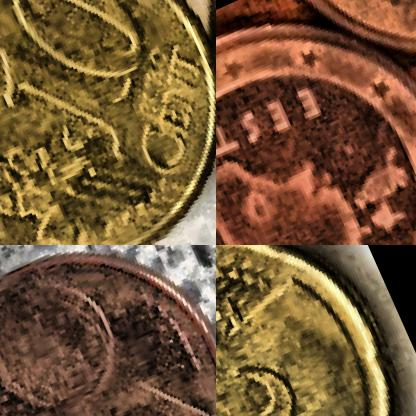coin: (0, 0, 215, 244), (216, 0, 415, 244), (0, 245, 215, 415), (216, 245, 415, 415)
